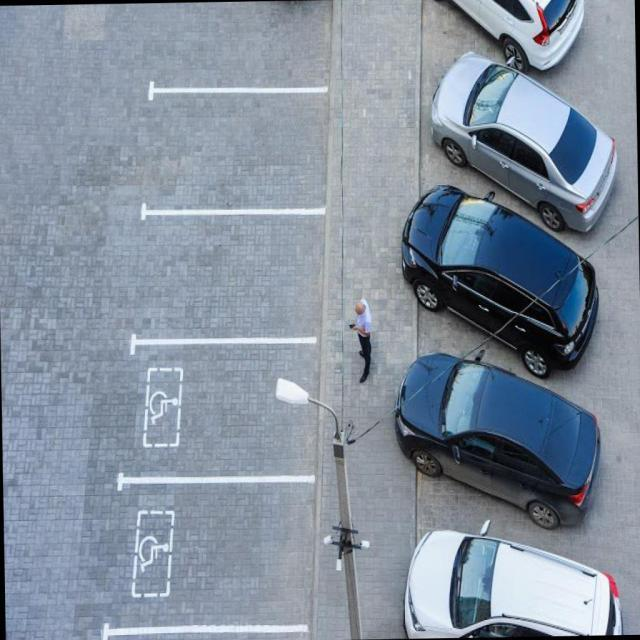car: (159, 0, 325, 89)
free: (103, 480, 323, 640), (116, 340, 323, 492), (136, 215, 329, 344), (144, 90, 328, 212)
